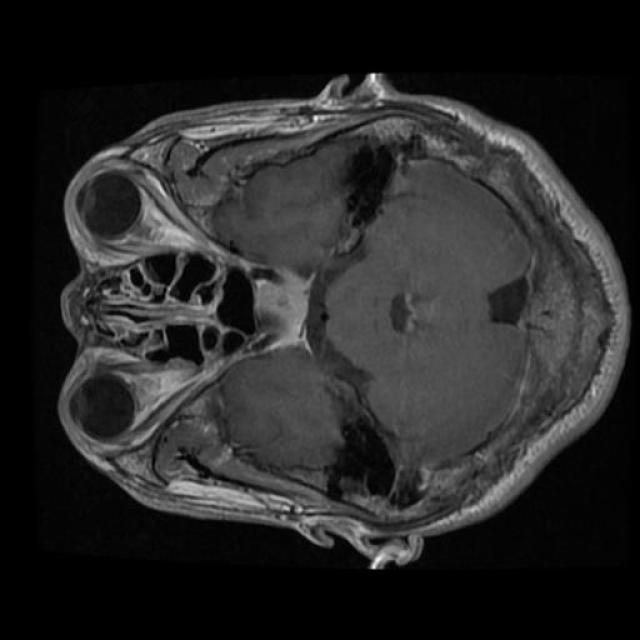Pituitary: (246, 269, 313, 349)
